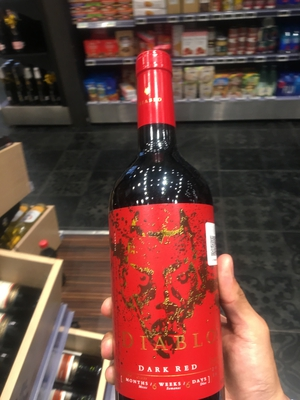diablo dark red: (102, 53, 230, 398)
